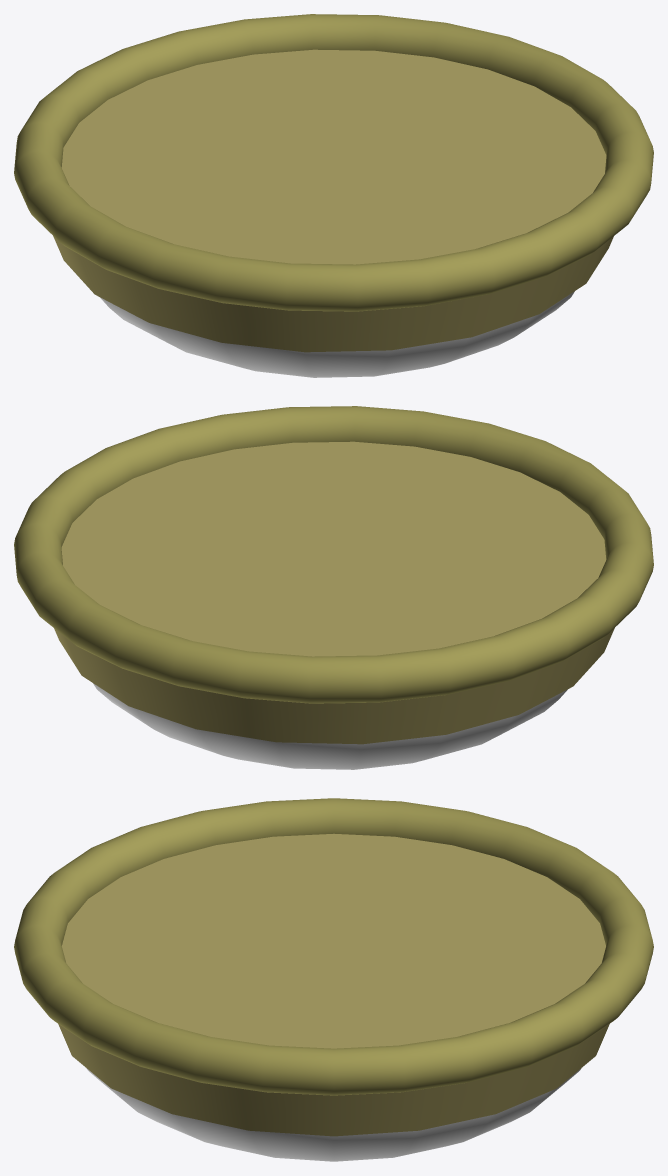
Rendered from light.fbx.
3 views of the same model, one above another, from view 1: azimuth 30°, elevation 25°; view 2: azimuth 150°, elevation 25°; view 3: azimuth 270°, elevation 25° (orthographic).
Visible parts, largest first — view 1: Cone, Ring, Light; view 2: Cone, Ring, Light; view 3: Cone, Ring, Light.
Boxes of the visible parts, x1,y1,x2,y2 form: Cone: [53, 49, 613, 352]; Ring: [14, 14, 653, 311]; Light: [100, 291, 574, 377]; Cone: [54, 441, 614, 744]; Ring: [14, 406, 653, 703]; Light: [93, 683, 567, 769]; Cone: [58, 833, 609, 1136]; Ring: [14, 798, 653, 1095]; Light: [86, 1068, 581, 1161].
Size of the model in its own units: 2.16 by 0.7239 by 2.16.
